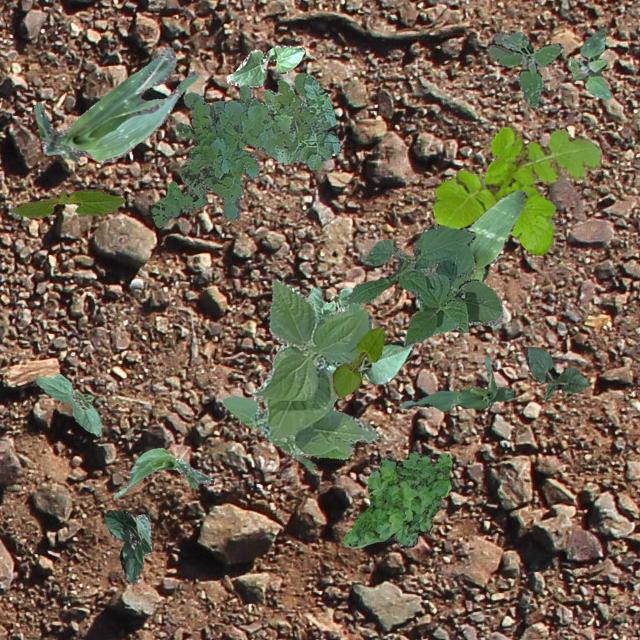crop: (222, 277, 378, 468), (346, 222, 502, 346), (32, 46, 198, 162), (450, 188, 526, 290), (400, 354, 514, 411), (112, 447, 212, 498), (36, 372, 100, 436), (324, 339, 414, 384), (306, 286, 352, 366), (102, 508, 150, 584), (332, 326, 383, 396), (524, 346, 588, 400), (224, 44, 304, 86), (10, 188, 124, 216)
weed: (150, 72, 340, 226), (432, 126, 600, 255), (342, 450, 451, 548), (486, 32, 562, 106), (568, 28, 610, 98)
